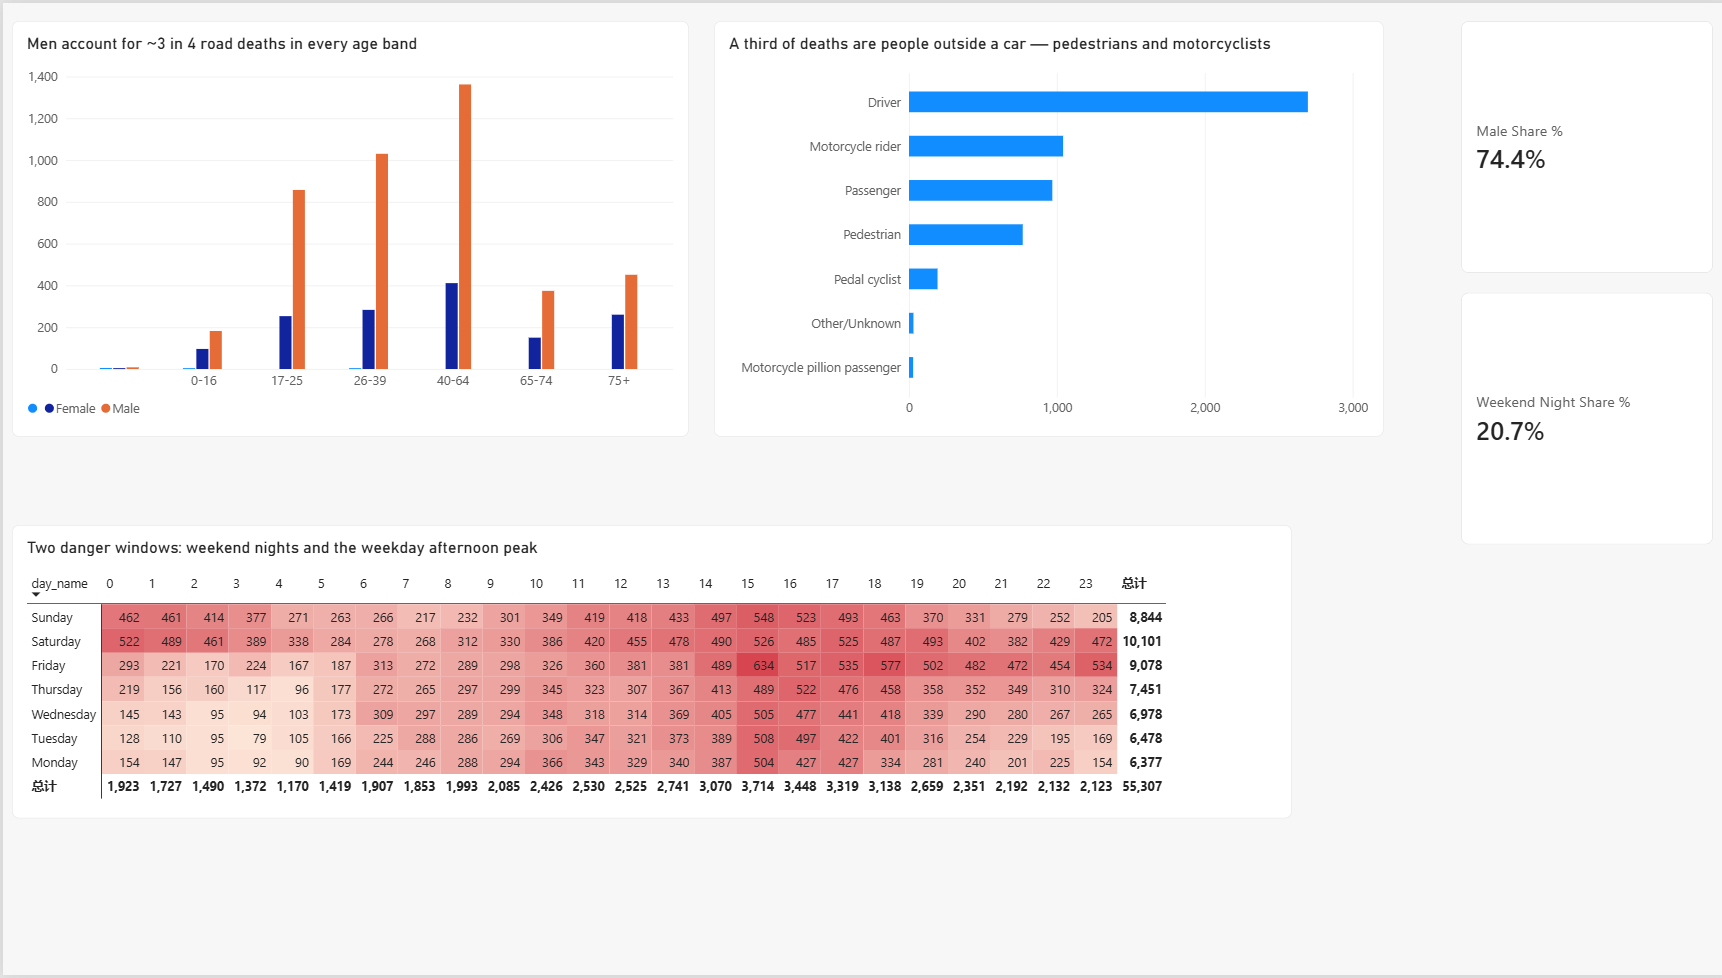

What the dashboard file says about the page in this screenshot:
{"tool":"powerbi","page":{"name":"People","canvas":[1920,1080],"ordinal":2},"visuals":[{"type":"clusteredColumnChart","title":"Men account for ~3 in 4 road deaths in every age band","fields":{"Category":["fact_fatalities.age_group"],"Series":["fact_fatalities.gender"],"Y":["_Measures.Total Deaths"]},"box":[10,20,752,462],"z":0},{"type":"clusteredBarChart","title":"A third of deaths are people outside a car — pedestrians and motorcyclists","fields":{"Category":["fact_fatalities.road_user"],"Y":["_Measures.Total Deaths"]},"box":[790,20,744,462],"z":1000},{"type":"pivotTable","title":"Two danger windows: weekend nights and the weekday afternoon peak","fields":{"Columns":["fact_fatalities.hour"],"Rows":["fact_fatalities.day_of_week_num"],"Values":["_Measures.Total Deaths"]},"box":[10,580,1422,326],"z":1001},{"type":"cardVisual","fields":{"Data":["_Measures.Male Share %"]},"box":[1620,20,280,280],"z":1003},{"type":"cardVisual","fields":{"Data":["_Measures.Weekend Night Share %"]},"box":[1620,322,280,280],"z":1004}]}

Visuals, with their boxes in screenshot pixels (x1, y1, x2, y2), scaled from the page's 1920x1080 canvas onto the 1722x978 screenshot:
"Men account for ~3 in 4 road deaths in every age band" clusteredColumnChart: 9/18/683/436
"A third of deaths are people outside a car — pedestrians and motorcyclists" clusteredBarChart: 709/18/1376/436
"Two danger windows: weekend nights and the weekday afternoon peak" pivotTable: 9/525/1284/820
cardVisual - _Measures.Male Share %: 1453/18/1704/272
cardVisual - _Measures.Weekend Night Share %: 1453/292/1704/545
